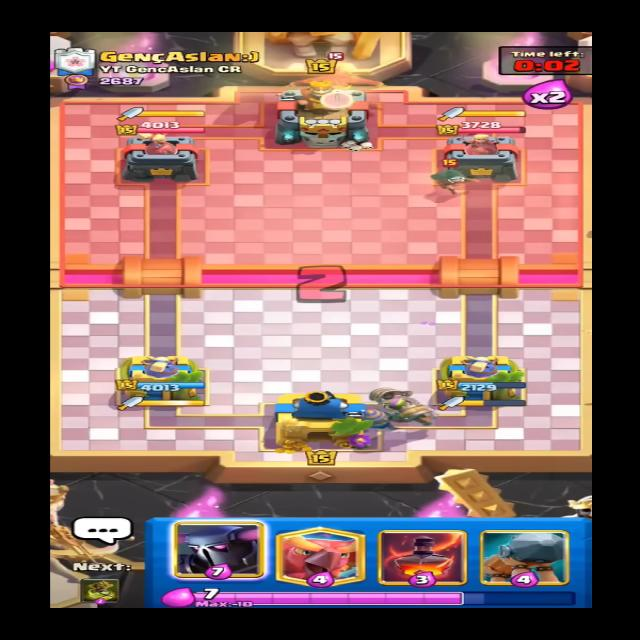bandit: (424, 155, 474, 192)
phoenix: (280, 53, 388, 102)
